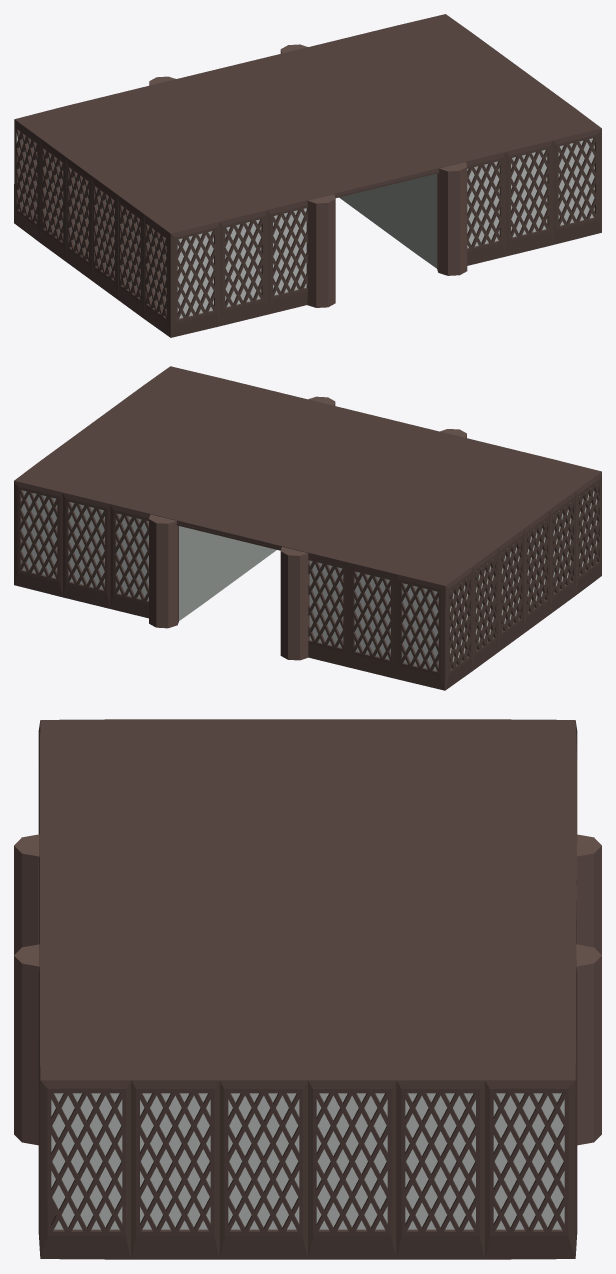
The model's file is SM_Env_Base_08.fbx.
3 views of the same model, one above another, from view 1: azimuth 30°, elevation 25°; view 2: azimuth 150°, elevation 25°; view 3: azimuth 270°, elevation 25° (orthographic). The views are drawn at different scales.
Visible parts, largest first — view 1: SM_Env_Base_08; view 2: SM_Env_Base_08; view 3: SM_Env_Base_08.
Part boxes in pixels (box(x1,y1,x2,y2)): SM_Env_Base_08: box(14, 14, 601, 337); SM_Env_Base_08: box(14, 366, 601, 690); SM_Env_Base_08: box(14, 719, 601, 1259).
Size of the model in its own units: 1432 by 335 by 983.
1 material, 1 textured.
